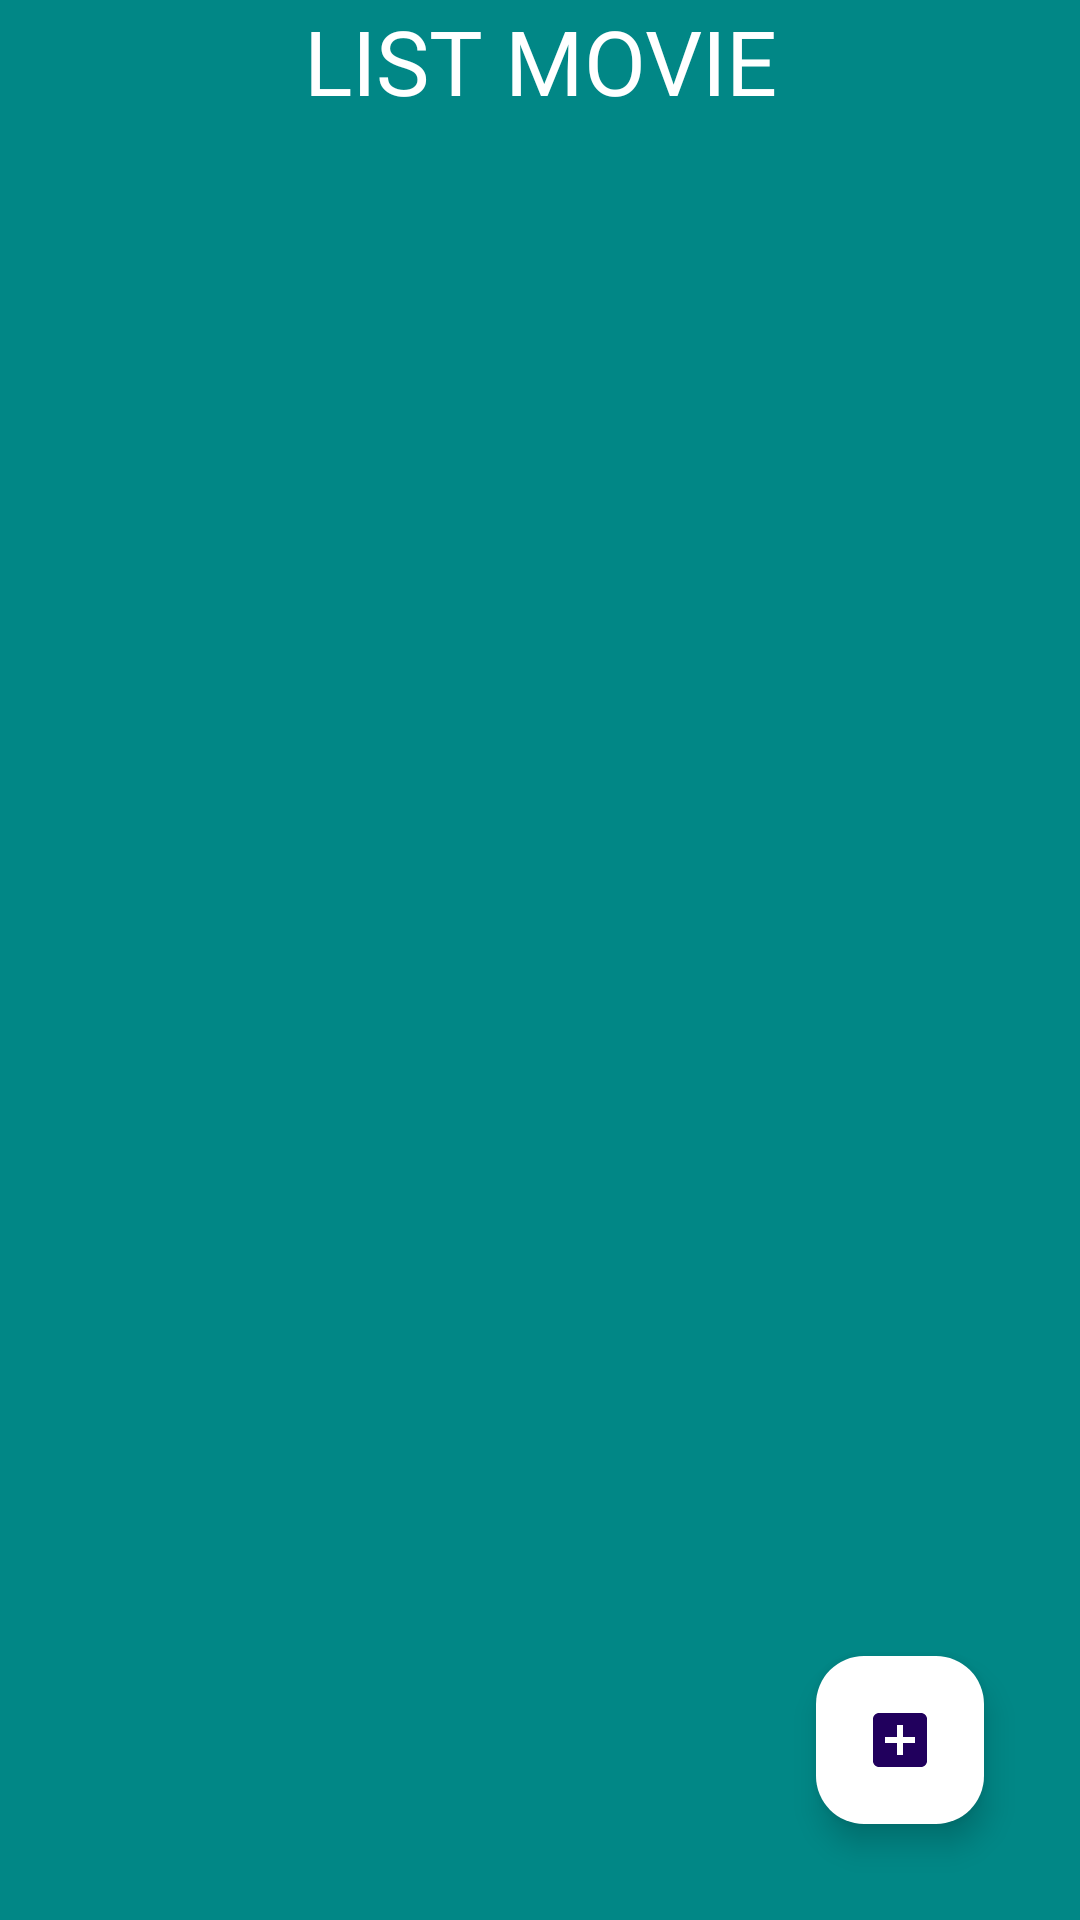

Icons on this 1080*1920 Android screen, each with its box as (x1, y1, x2, y2):
add box: (816, 1656, 984, 1824)
